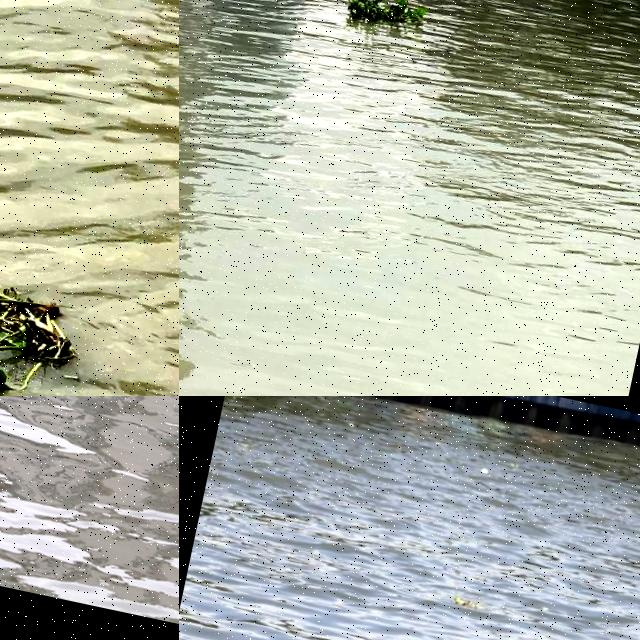water-hyacinth: (1, 270, 82, 397), (338, 1, 428, 35)
